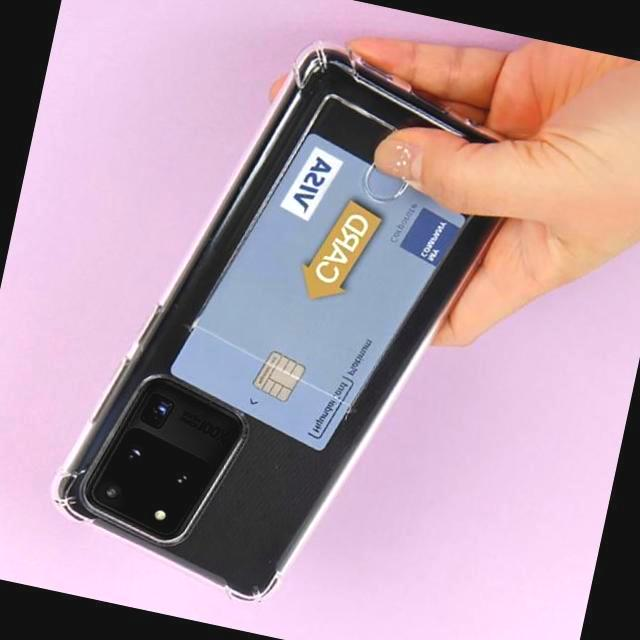lens: (78, 426, 208, 536)
phone: (53, 36, 526, 604)
